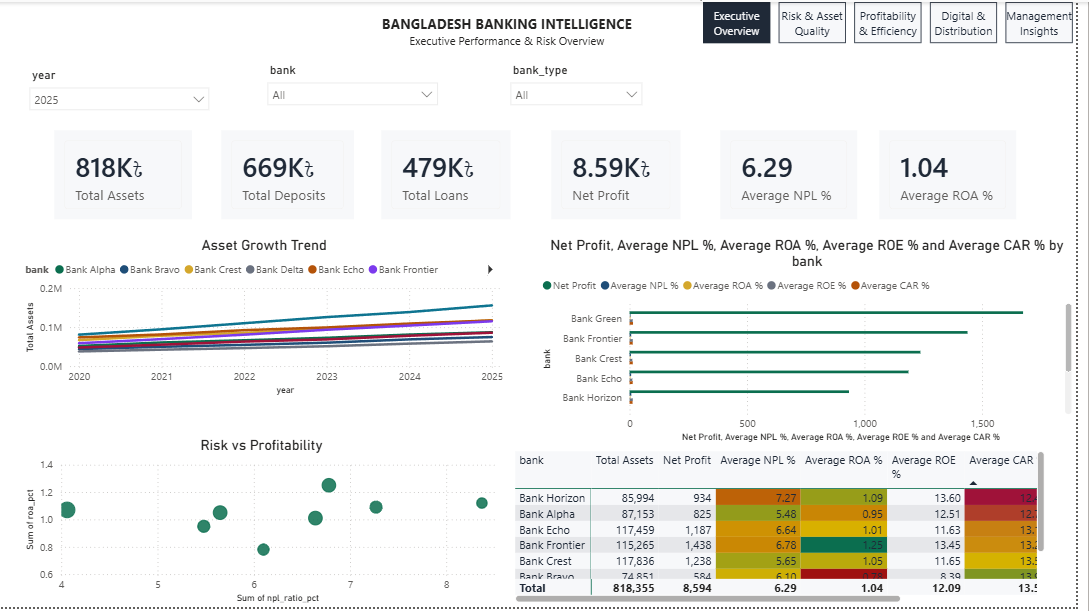

The dashboard page shown, as its layout file describes it:
{"tool":"powerbi","page":{"name":"Executive Overview","canvas":[1280,720],"ordinal":0},"visuals":[{"type":"textbox","box":[443.9,10.7,318.9,57.1],"z":0},{"type":"slicer","fields":{"Values":["bank_financials.year"]},"box":[25,73.8,234.4,97.6],"z":1000},{"type":"slicer","fields":{"Values":["bank_financials.bank"]},"box":[308.2,67.8,222.5,60.7],"z":2000},{"type":"slicer","fields":{"Values":["bank_financials.bank_type"]},"box":[597.4,67.8,177.3,79.7],"z":3000},{"type":"cardVisual","fields":{"Data":["bank_financials.Total Assets"]},"box":[59.5,147.6,174.9,116.6],"z":4000},{"type":"cardVisual","fields":{"Data":["bank_financials.Total Deposits"]},"box":[258.2,147.6,169,116.6],"z":5000},{"type":"cardVisual","fields":{"Data":["bank_financials.Total Loans"]},"box":[448.7,147.6,164.2,116.6],"z":6000},{"type":"cardVisual","fields":{"Data":["bank_financials.Net Profit"]},"box":[651,147.6,164.2,116.6],"z":7000},{"type":"cardVisual","fields":{"Data":["bank_financials.Average NPL %"]},"box":[852.1,147.6,173.8,116.6],"z":8000},{"type":"cardVisual","fields":{"Data":["bank_financials.Average ROA %"]},"box":[1041.3,147.6,173.8,116.6],"z":9000},{"type":"lineChart","title":"Asset Growth Trend","fields":{"Y":["bank_financials.Total Assets"],"Category":["bank_financials.year"],"Series":["bank_financials.bank"]},"box":[25,279.7,578.4,192.8],"z":10000},{"type":"clusteredBarChart","fields":{"Category":["bank_financials.bank"],"Y":["bank_financials.Net Profit","bank_financials.Average NPL %","bank_financials.Average ROA %","bank_financials.Average ROE %","bank_financials.Average CAR %"]},"box":[640.3,279.7,640.3,248.7],"z":11000},{"type":"scatterChart","title":"Risk vs Profitability","fields":{"X":["Sum(bank_financials.npl_ratio_pct)"],"Y":["Sum(bank_financials.roa_pct)"],"Size":["Sum(bank_financials.total_assets_crore)"],"Category":["bank_financials.bank"]},"box":[25,517.7,572.4,202.3],"z":12000},{"type":"pivotTable","fields":{"Rows":["bank_financials.bank"],"Values":["bank_financials.Total Assets","bank_financials.Net Profit","bank_financials.Average NPL %","bank_financials.Average ROA %","bank_financials.Average ROE %","bank_financials.Average CAR %","bank_financials.Average Cost-to-Income %"]},"box":[608.1,529.6,640.3,190.4],"z":13000},{"type":"pageNavigator","box":[836.6,0,443.9,50],"z":13001}]}

Visuals, with their boxes in screenshot pixels (x1, y1, x2, y2), scaled from the page's 1280x720 canvas onto the 1089x611 screenshot:
textbox: BBox(378, 9, 649, 58)
slicer - bank_financials.year: BBox(21, 63, 221, 145)
slicer - bank_financials.bank: BBox(262, 58, 452, 109)
slicer - bank_financials.bank_type: BBox(508, 58, 659, 125)
cardVisual - bank_financials.Total Assets: BBox(51, 125, 199, 224)
cardVisual - bank_financials.Total Deposits: BBox(220, 125, 363, 224)
cardVisual - bank_financials.Total Loans: BBox(382, 125, 521, 224)
cardVisual - bank_financials.Net Profit: BBox(554, 125, 694, 224)
cardVisual - bank_financials.Average NPL %: BBox(725, 125, 873, 224)
cardVisual - bank_financials.Average ROA %: BBox(886, 125, 1034, 224)
"Asset Growth Trend" lineChart: BBox(21, 237, 513, 401)
clusteredBarChart - bank_financials.bank x bank_financials.Net Profit: BBox(545, 237, 1088, 448)
"Risk vs Profitability" scatterChart: BBox(21, 439, 508, 610)
pivotTable - bank_financials.bank x bank_financials.Total Assets: BBox(517, 449, 1062, 610)
pageNavigator: BBox(712, 0, 1088, 42)
